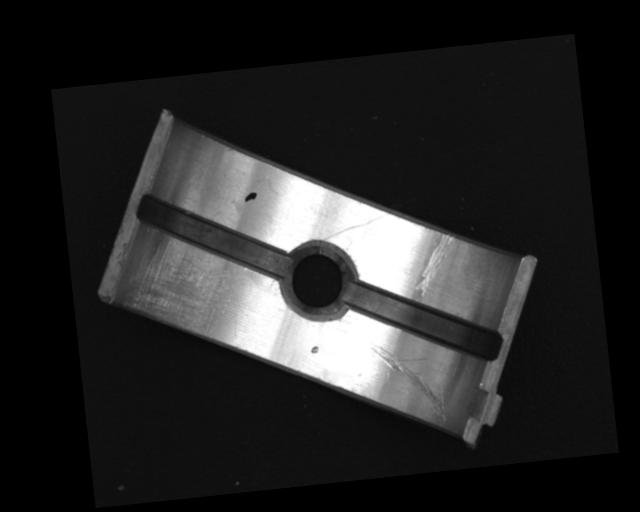blot: (243, 191, 258, 202)
bruise: (310, 344, 319, 354)
gap: (132, 180, 290, 289), (344, 268, 507, 373)
hole: (277, 237, 359, 322)
nick: (369, 338, 447, 430), (408, 231, 460, 302), (320, 212, 395, 240)
scratch: (115, 233, 236, 355)
